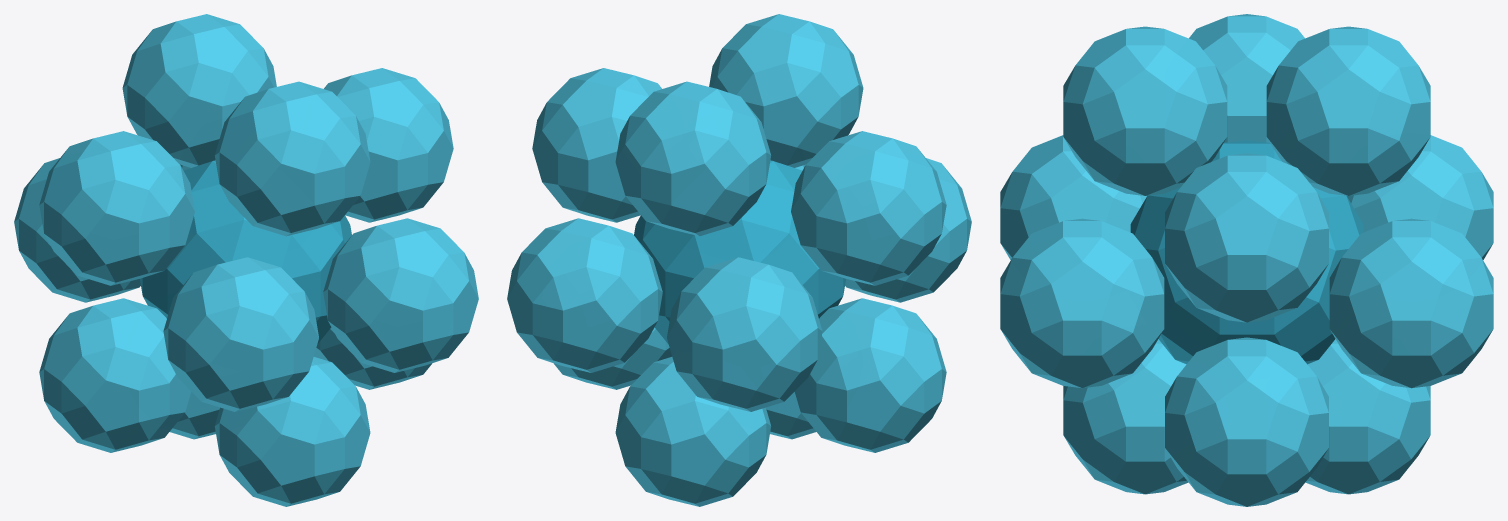
File: fractalrhombicosidodecahedron1.glb
The picture shows the model from 3 angles, left to right: view 1: azimuth 30°, elevation 25°; view 2: azimuth 150°, elevation 25°; view 3: azimuth 270°, elevation 25°; orthographic projection. The views are drawn at different scales.
Bounding box in the file's own units: 9.66 × 9.66 × 9.66.
